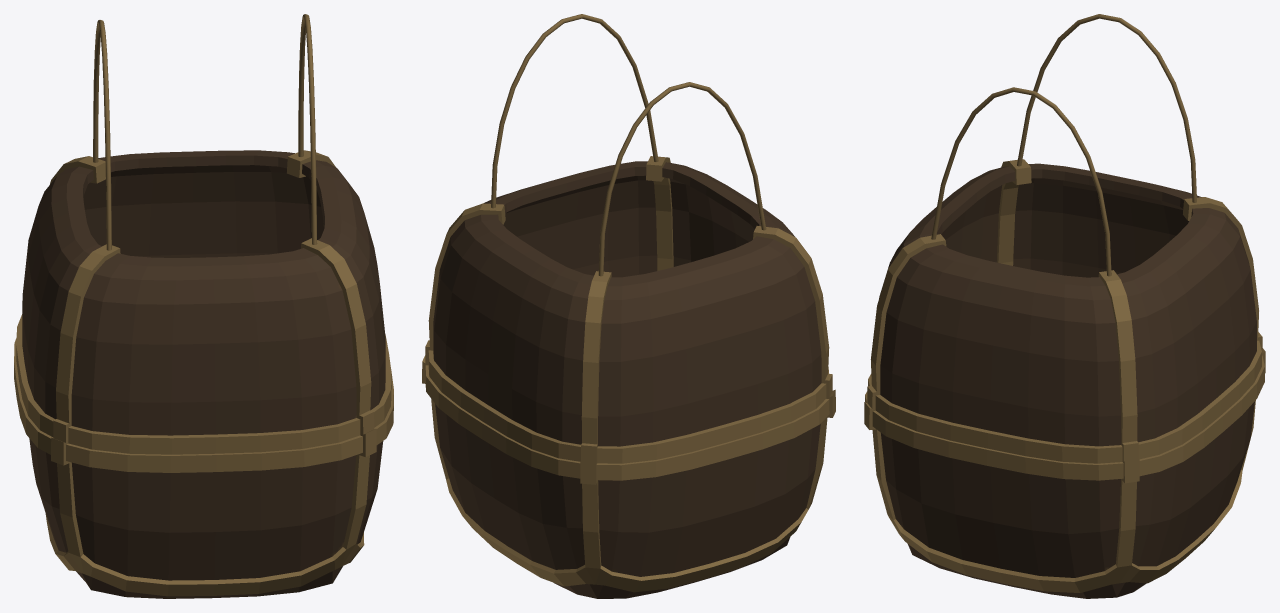
File: Ballingaw.glb
The picture shows the model from 3 angles, left to right: view 1: azimuth 30°, elevation 25°; view 2: azimuth 150°, elevation 25°; view 3: azimuth 270°, elevation 25°; orthographic projection. The views are drawn at different scales.
Parts seen in each view (by area): view 1: Cube; view 2: Cube; view 3: Cube.
Boxes of the visible parts, x1=… form: Cube: x1=14, y1=14, x2=393, y2=598; Cube: x1=422, y1=14, x2=835, y2=598; Cube: x1=864, y1=14, x2=1265, y2=598.
Bounding box in the file's own units: 3.27 × 4.51 × 3.27.
Materials: 1 (1 with a texture image).
